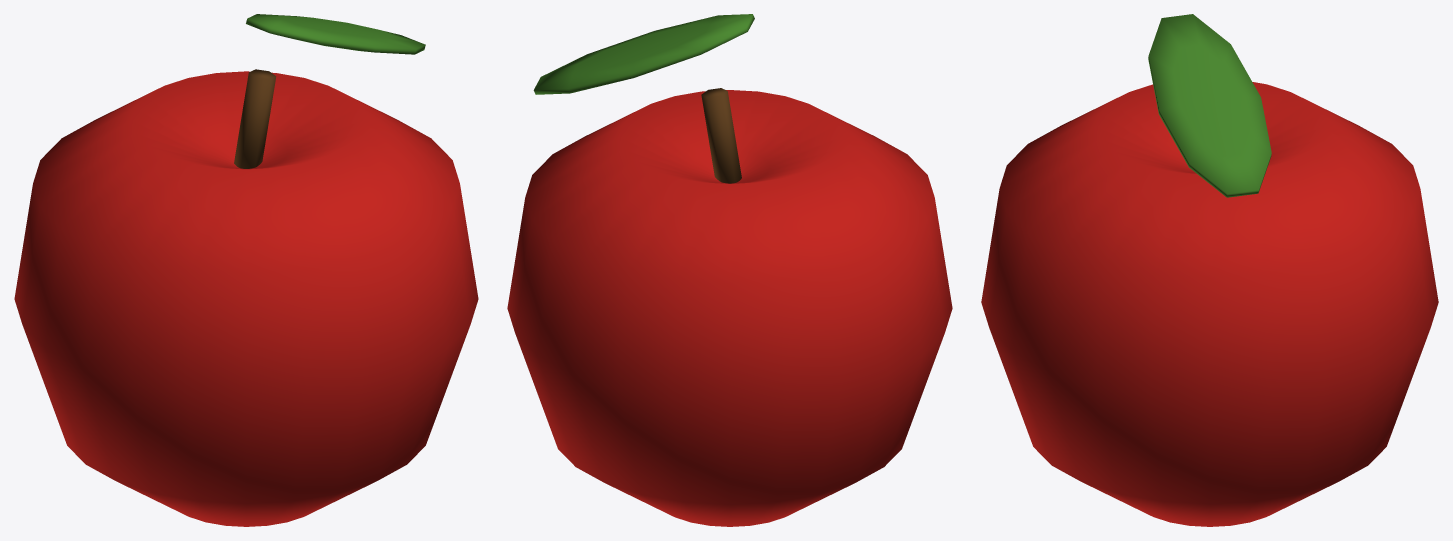
The model's file is apfel.glb.
3 views of the same model, side by side, from view 1: azimuth 30°, elevation 25°; view 2: azimuth 150°, elevation 25°; view 3: azimuth 270°, elevation 25° (orthographic). The views are drawn at different scales.
Visible parts, largest first — view 1: apfel; view 2: apfel; view 3: apfel.
Part boxes in pixels (left/top/right/bottom): apfel: left=14, top=14, right=478, bottom=526; apfel: left=507, top=14, right=952, bottom=526; apfel: left=981, top=14, right=1438, bottom=526.
Bounding box in the file's own units: 0.09 × 0.1032 × 0.09.
